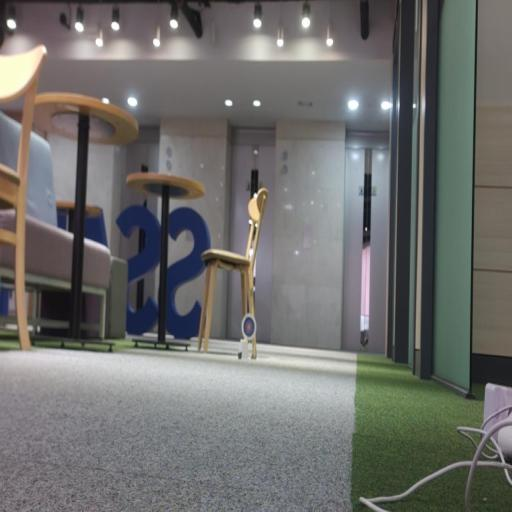target: (242, 313, 256, 339)
